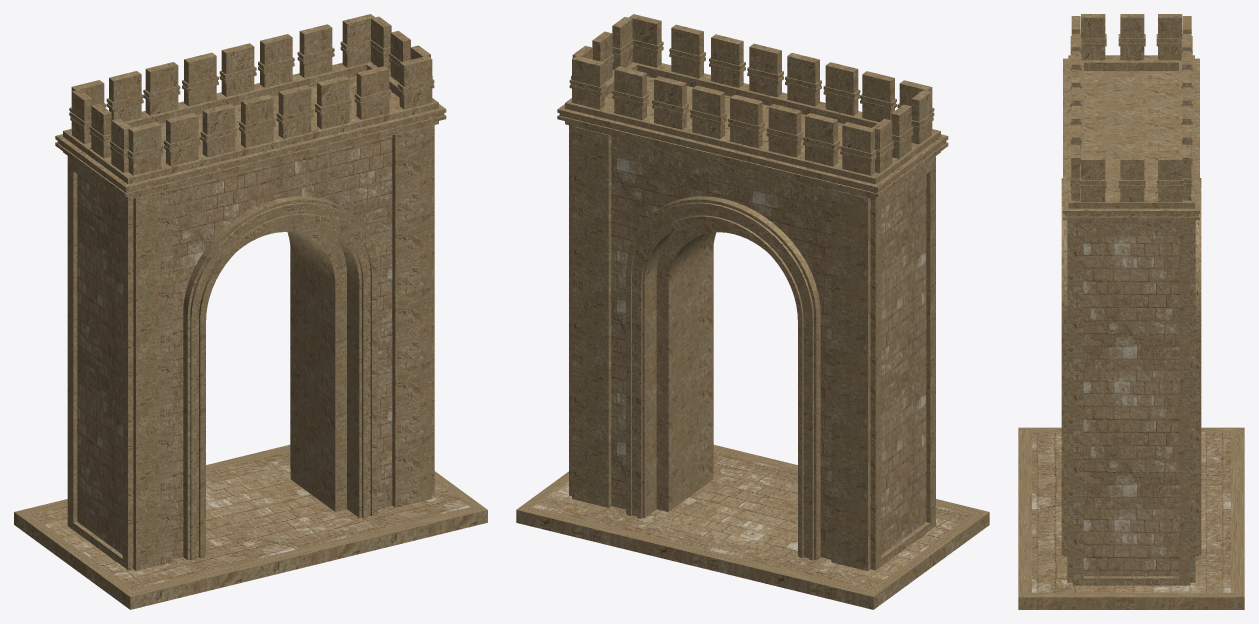
Rendered from fbxArch.fbx.
3 renders of one model, left to right at view 1: azimuth 30°, elevation 25°; view 2: azimuth 150°, elevation 25°; view 3: azimuth 270°, elevation 25°, orthographic. The views are drawn at different scales.
Parts seen in each view (by area): view 1: arch, floor; view 2: arch, floor; view 3: arch, floor.
Boxes of the visible parts, x1=… form: arch: x1=55, y1=14, x2=446, y2=570; floor: x1=14, y1=444, x2=487, y2=609; arch: x1=557, y1=14, x2=948, y2=570; floor: x1=516, y1=445, x2=989, y2=609; arch: x1=1061, y1=14, x2=1201, y2=585; floor: x1=1018, y1=427, x2=1244, y2=609.
Bounding box in the file's own units: 12.55 × 15.12 × 7.07.
Materials: 2 (2 with a texture image).
